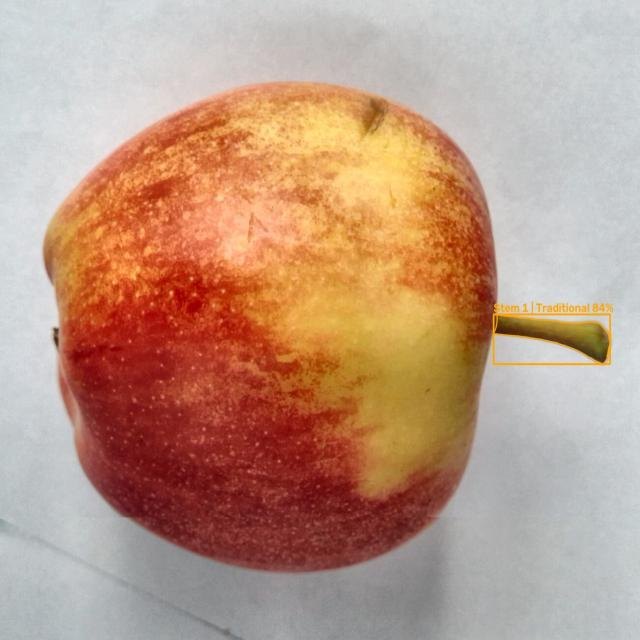Fruit-Stem-Detection: (484, 292, 613, 380), (494, 310, 610, 362)
